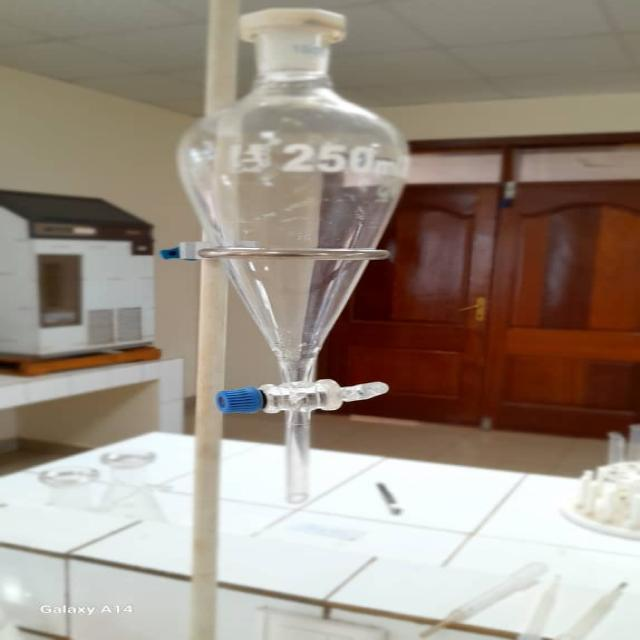Separating Funnel: (177, 0, 409, 507)
